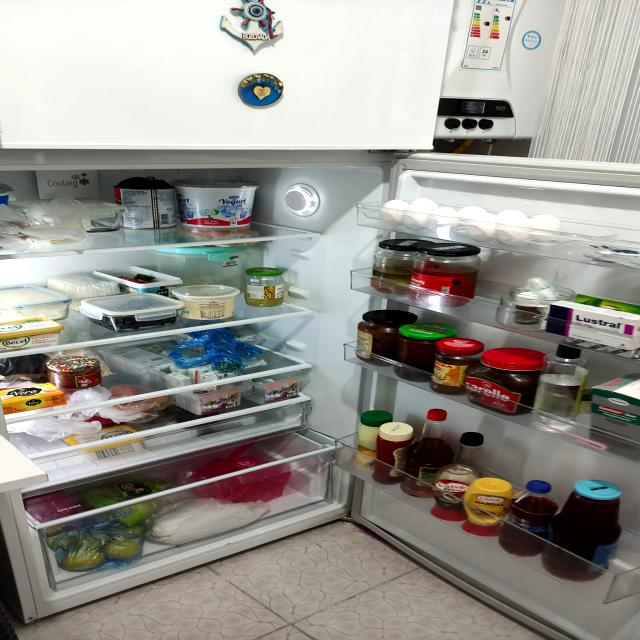egg: (488, 216, 538, 249)
ketchup: (362, 422, 423, 487)
tomato paste: (106, 180, 190, 234)
yogurt: (176, 177, 266, 234), (176, 284, 240, 320)
